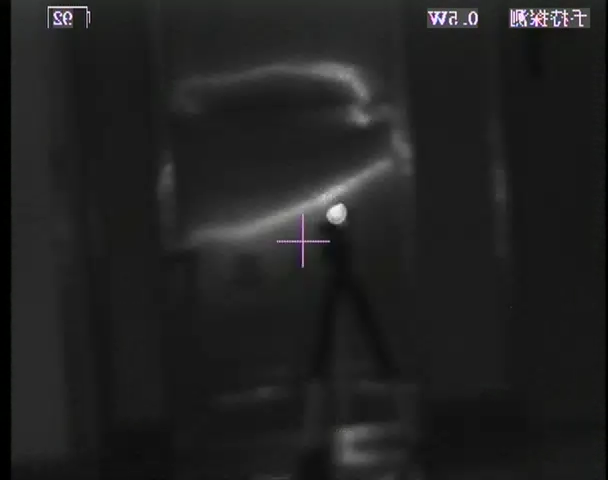my: (324, 201, 348, 226)
